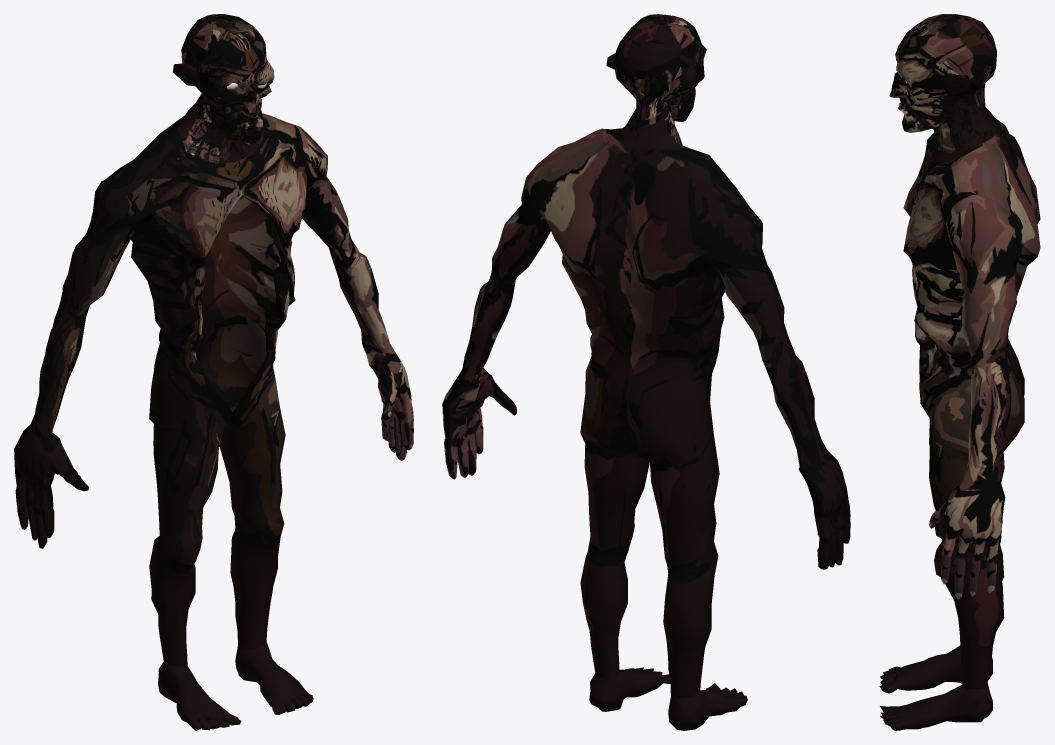
Rendered from Jean_Vichier_Open.fbx.
The picture shows the model from 3 angles, left to right: view 1: azimuth 30°, elevation 25°; view 2: azimuth 150°, elevation 25°; view 3: azimuth 270°, elevation 25°; orthographic projection. The views are drawn at different scales.
Parts seen in each view (by area): view 1: Body_Open, Face; view 2: Body_Open, Face; view 3: Body_Open, Face.
Part boxes in pixels (x1,y1,x2,y2): Body_Open: (14,113,413,730); Face: (173,14,274,163); Body_Open: (442,128,850,730); Face: (606,14,706,149); Body_Open: (879,117,1040,730); Face: (889,14,996,163).
Size of the model in its own units: 202 by 349 by 74.18.
